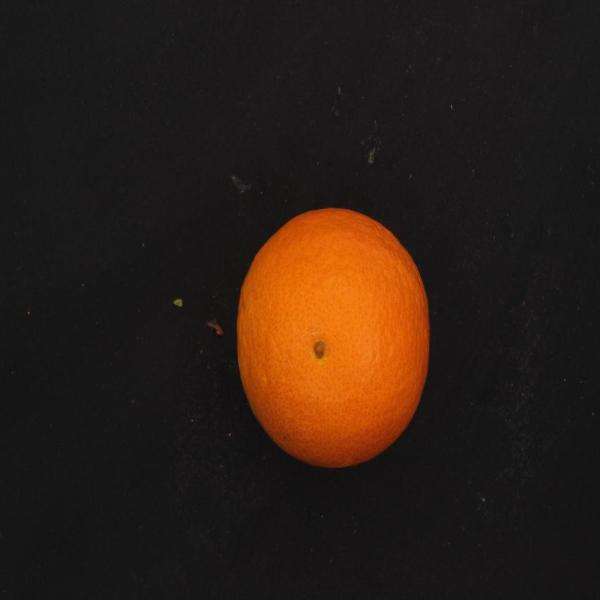Sana: (232, 195, 436, 474)
